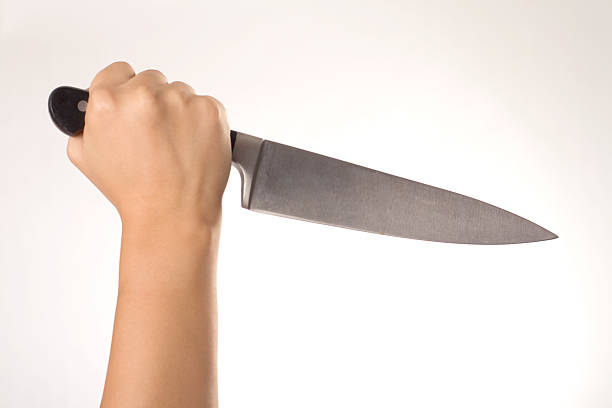knife: (48, 84, 558, 246)
